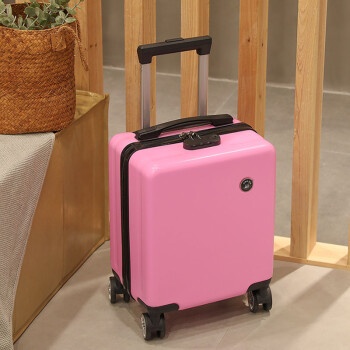box: (109, 119, 276, 311)
handle: (135, 113, 234, 140)
lock: (181, 131, 221, 150)
wheel: (140, 312, 165, 342), (248, 285, 272, 313), (108, 276, 130, 304)
